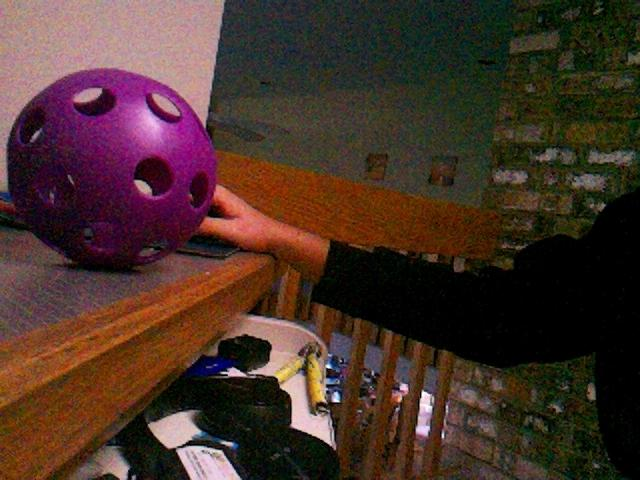Purple: (5, 68, 219, 271)
